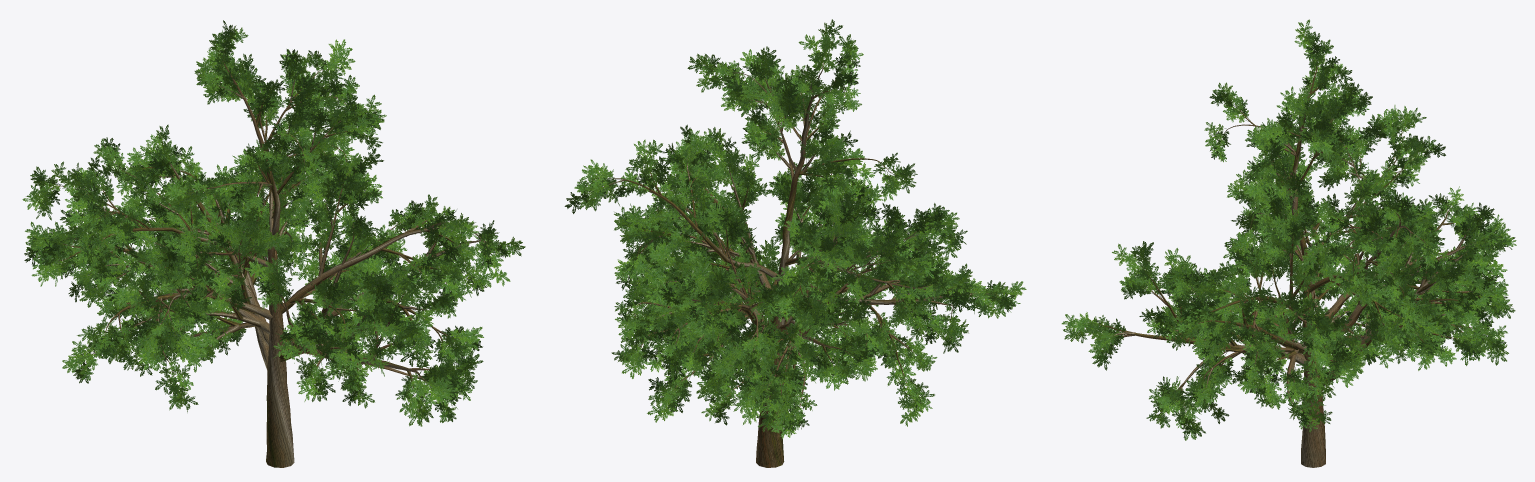
File: SM_BroadTree_A_ash_ez.gltf
3 renders of one model, left to right at view 1: azimuth 30°, elevation 25°; view 2: azimuth 150°, elevation 25°; view 3: azimuth 270°, elevation 25°, orthographic. The views are drawn at different scales.
Parts seen in each view (by area): view 1: SM_BroadTree_A_ash_ez; view 2: SM_BroadTree_A_ash_ez; view 3: SM_BroadTree_A_ash_ez.
Boxes of the visible parts, left/top/right/bottom form: SM_BroadTree_A_ash_ez: left=22, top=20, right=525, bottom=467; SM_BroadTree_A_ash_ez: left=564, top=19, right=1026, bottom=467; SM_BroadTree_A_ash_ez: left=1061, top=19, right=1516, bottom=467.
Bounding box in the file's own units: 11.44 × 12 × 11.94.
2 materials, 2 textured.
